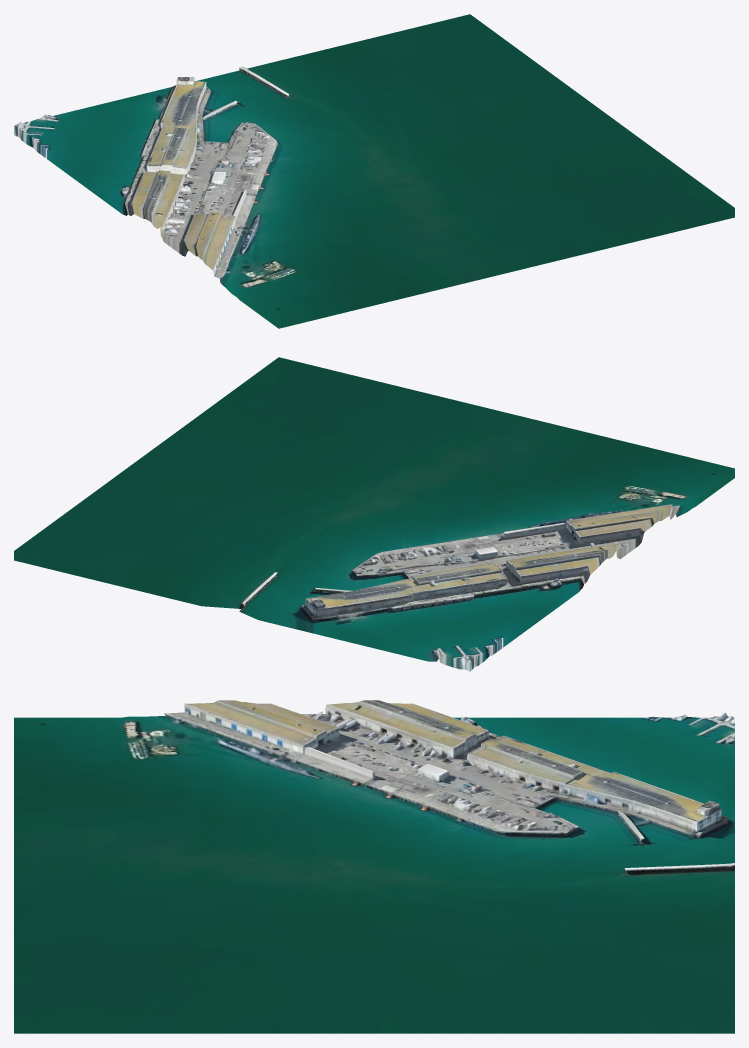
File: z16-10482-25322-h0-yup-uvflip-v3-world.glb
3 renders of one model, top to bottom at view 1: azimuth 30°, elevation 25°; view 2: azimuth 150°, elevation 25°; view 3: azimuth 270°, elevation 25°, orthographic. The views are drawn at different scales.
Bounding box in the file's own units: 483 × 24.32 × 485.
1 material, 1 textured.
